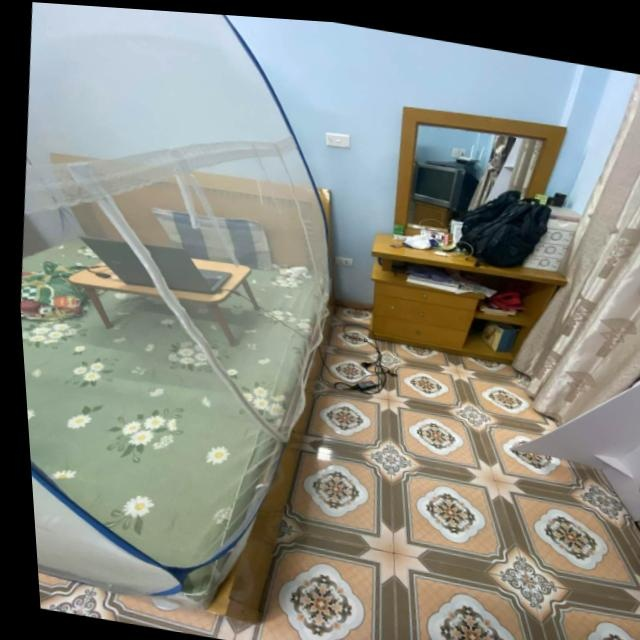outlet: (334, 255, 354, 267)
